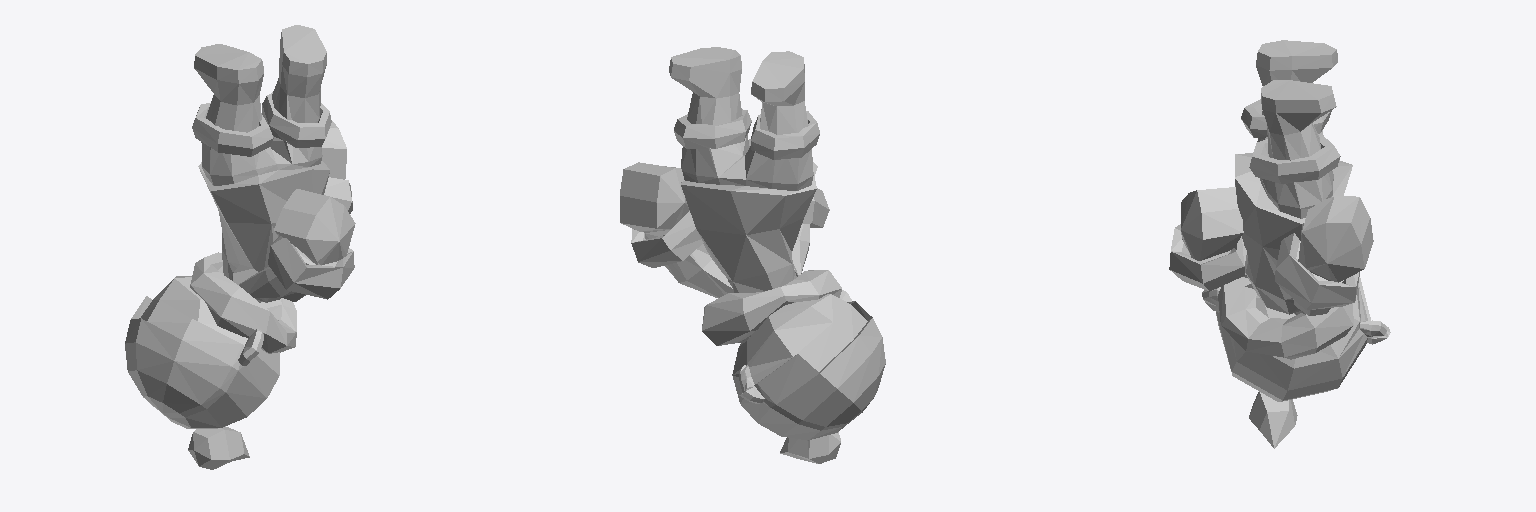
Rendered from eikaequip_000041.obj.
3 views of the same model, side by side, from view 1: azimuth 30°, elevation 25°; view 2: azimuth 150°, elevation 25°; view 3: azimuth 270°, elevation 25° (orthographic).
Visible parts, largest first — view 1: Cylinder; view 2: Cylinder; view 3: Cylinder.
Boxes of the visible parts, x1,y1,x2,y2 form: Cylinder: [125, 25, 355, 469]; Cylinder: [620, 47, 885, 463]; Cylinder: [1169, 40, 1390, 448].
Size of the model in its own units: 33.45 by 55.61 by 27.93.